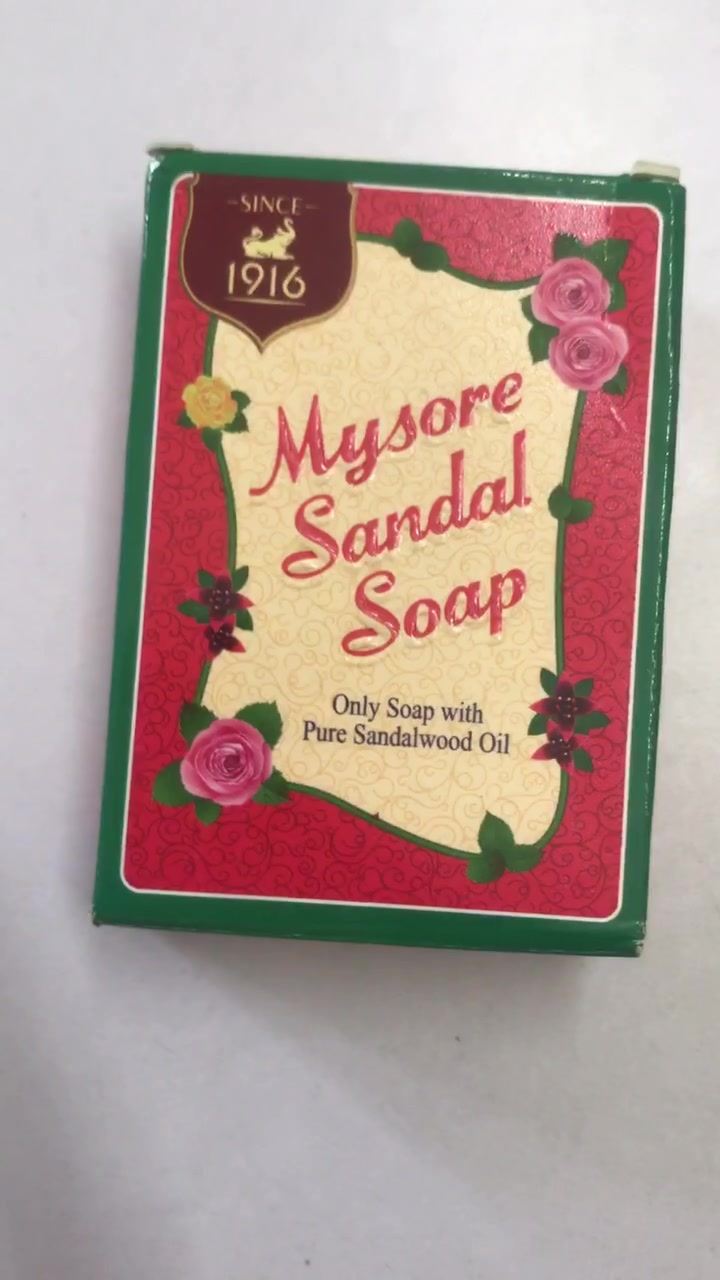mysore sandal soap: (128, 159, 630, 949)
